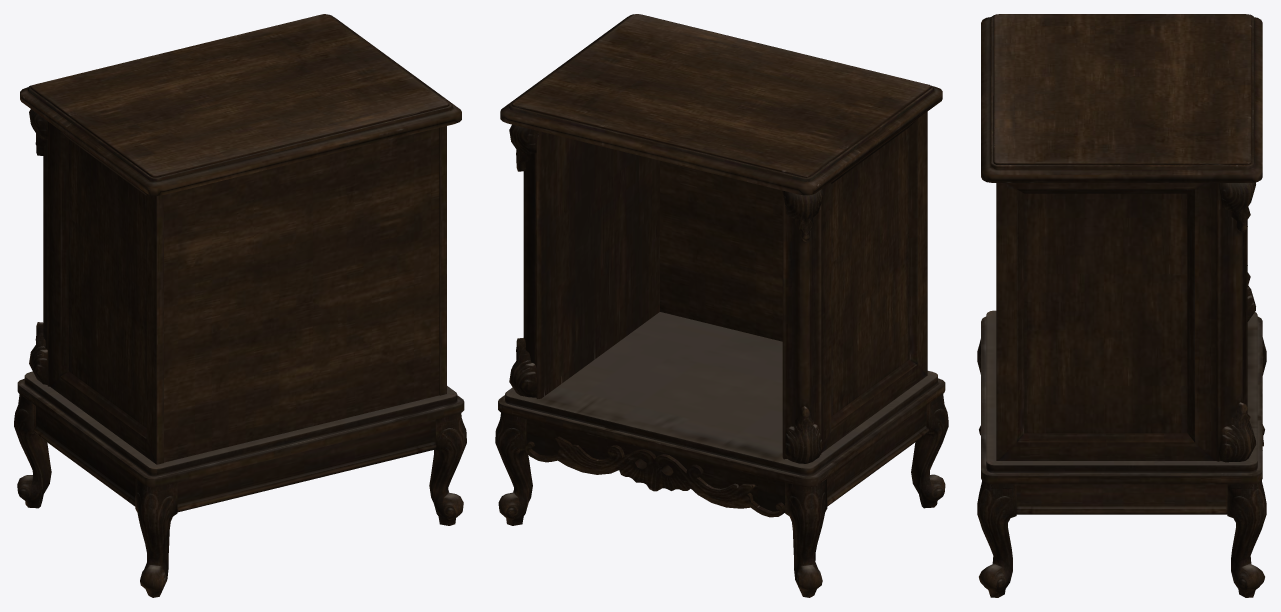
3 views of the same model, side by side, from view 1: azimuth 30°, elevation 25°; view 2: azimuth 150°, elevation 25°; view 3: azimuth 270°, elevation 25° (orthographic). The views are drawn at different scales.
Parts seen in each view (by area): view 1: ClassicNightstand_01; view 2: ClassicNightstand_01; view 3: ClassicNightstand_01.
Part boxes in pixels (<box>): ClassicNightstand_01: <box>14,14,466,597</box>; ClassicNightstand_01: <box>495,14,948,597</box>; ClassicNightstand_01: <box>977,14,1266,597</box>.
Bounding box in the file's own units: 48.67 × 60 × 36.36.
1 material, 1 textured.
